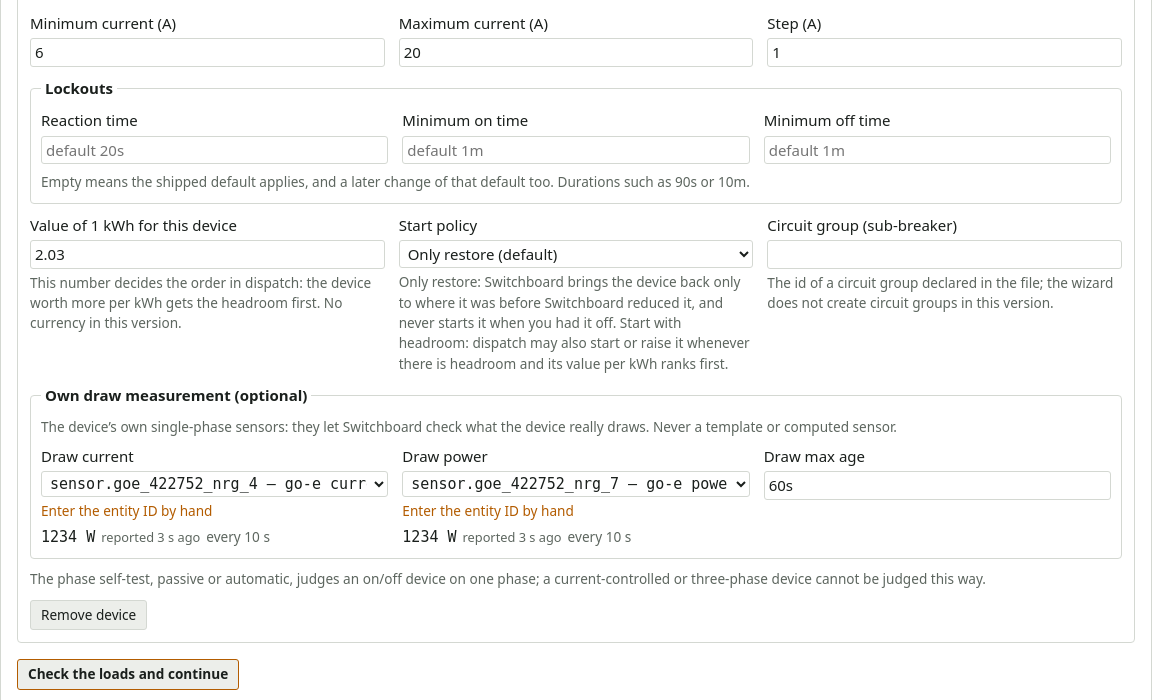
check and continue › continue is refused naming the failed field
(page scrolled)
Click the button "Check the loads and continue": (128, 674) [17,659,239,690]
(page scrolled)
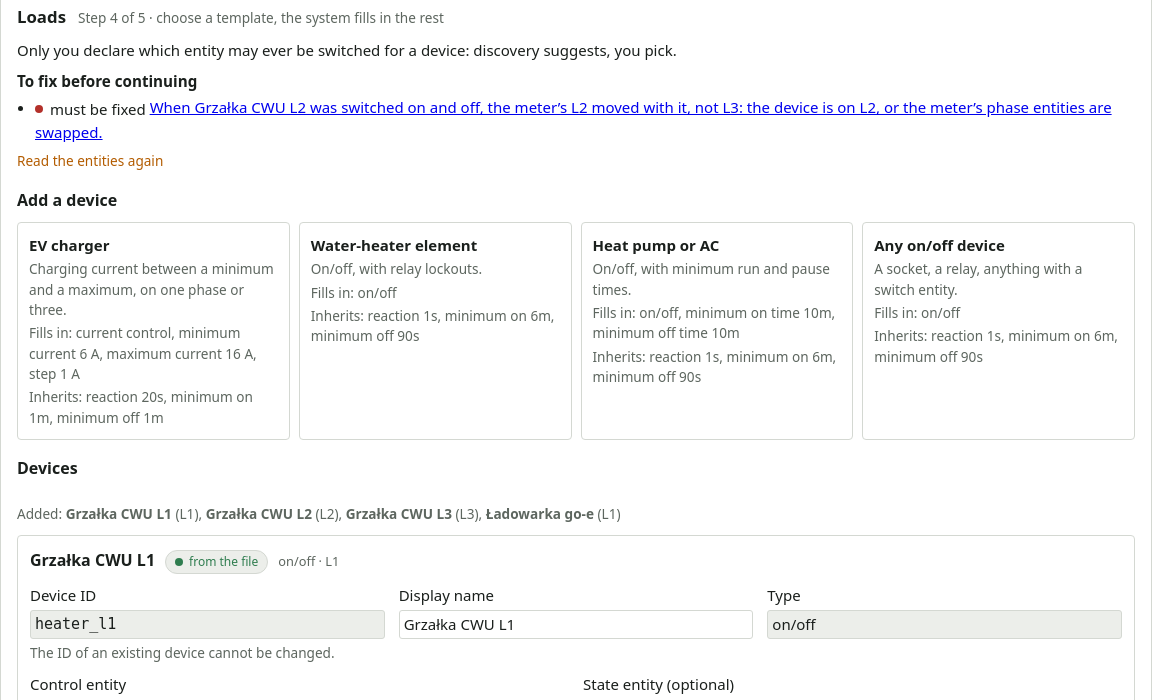
Expected: the message shows "the meter’s L2 moved with it, not L3", [35,98,1112,142]
